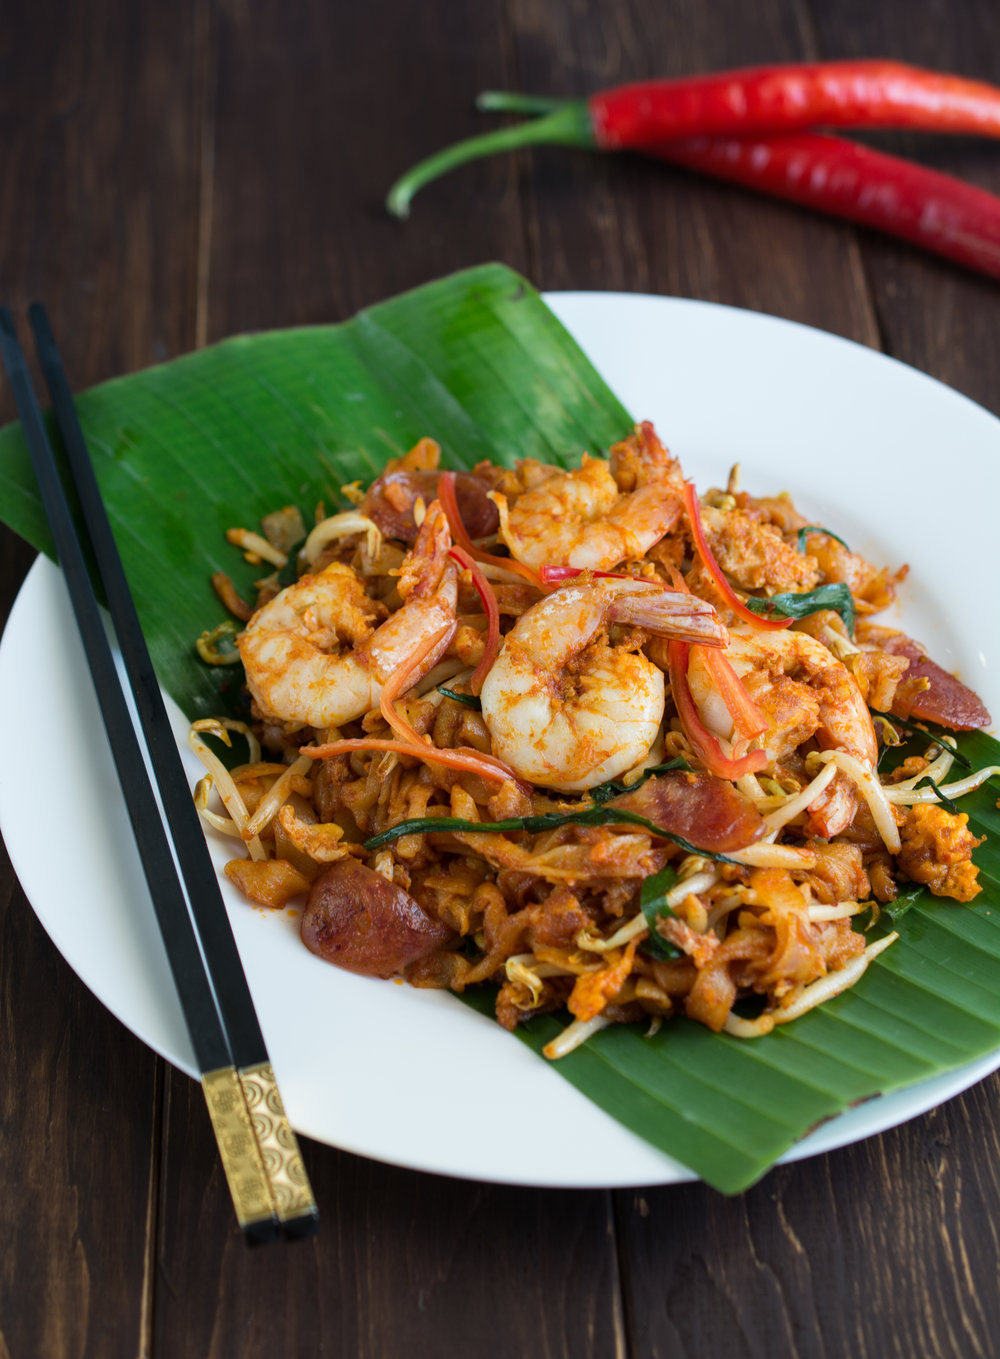Char Kway Teow: (175, 449, 989, 1064)
